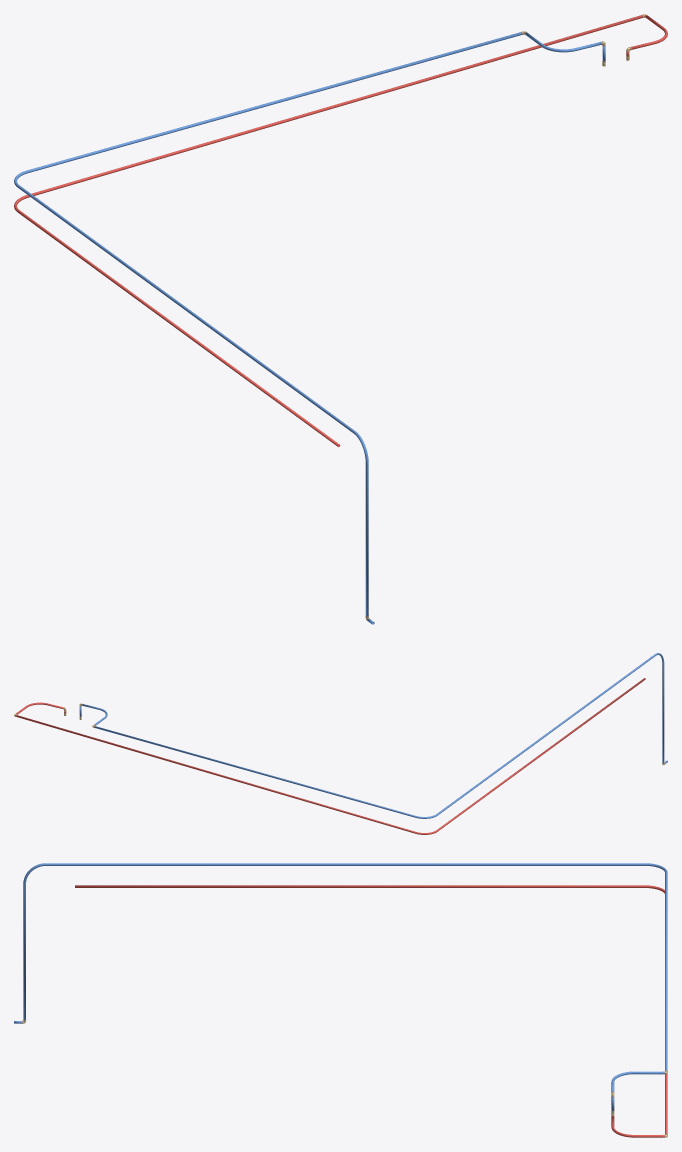
The model's file is slab_pipes_supply__water_heater-garage_hybrid+garage_gas_tank_and_plumbing-pex_branch.glb.
3 renders of one model, top to bottom at view 1: azimuth 30°, elevation 25°; view 2: azimuth 150°, elevation 25°; view 3: azimuth 270°, elevation 25°, orthographic. The views are drawn at different scales.
Visible parts, largest first — view 1: pipe_supply_tb_cold_wh_hybrid, pipe_supply_tb_hot_wh_hybrid; view 2: pipe_supply_tb_cold_wh_hybrid, pipe_supply_tb_hot_wh_hybrid; view 3: pipe_supply_tb_cold_wh_hybrid, pipe_supply_tb_hot_wh_hybrid.
Boxes of the visible parts, left/top/right/bottom form: pipe_supply_tb_cold_wh_hybrid: left=14, top=32, right=605, bottom=624; pipe_supply_tb_hot_wh_hybrid: left=14, top=14, right=667, bottom=447; pipe_supply_tb_cold_wh_hybrid: left=79, top=653, right=667, bottom=818; pipe_supply_tb_hot_wh_hybrid: left=15, top=678, right=645, bottom=834; pipe_supply_tb_cold_wh_hybrid: left=14, top=863, right=667, bottom=1112; pipe_supply_tb_hot_wh_hybrid: left=75, top=885, right=667, bottom=1137.
Size of the model in its own units: 5.4 by 1.6 by 5.36.
